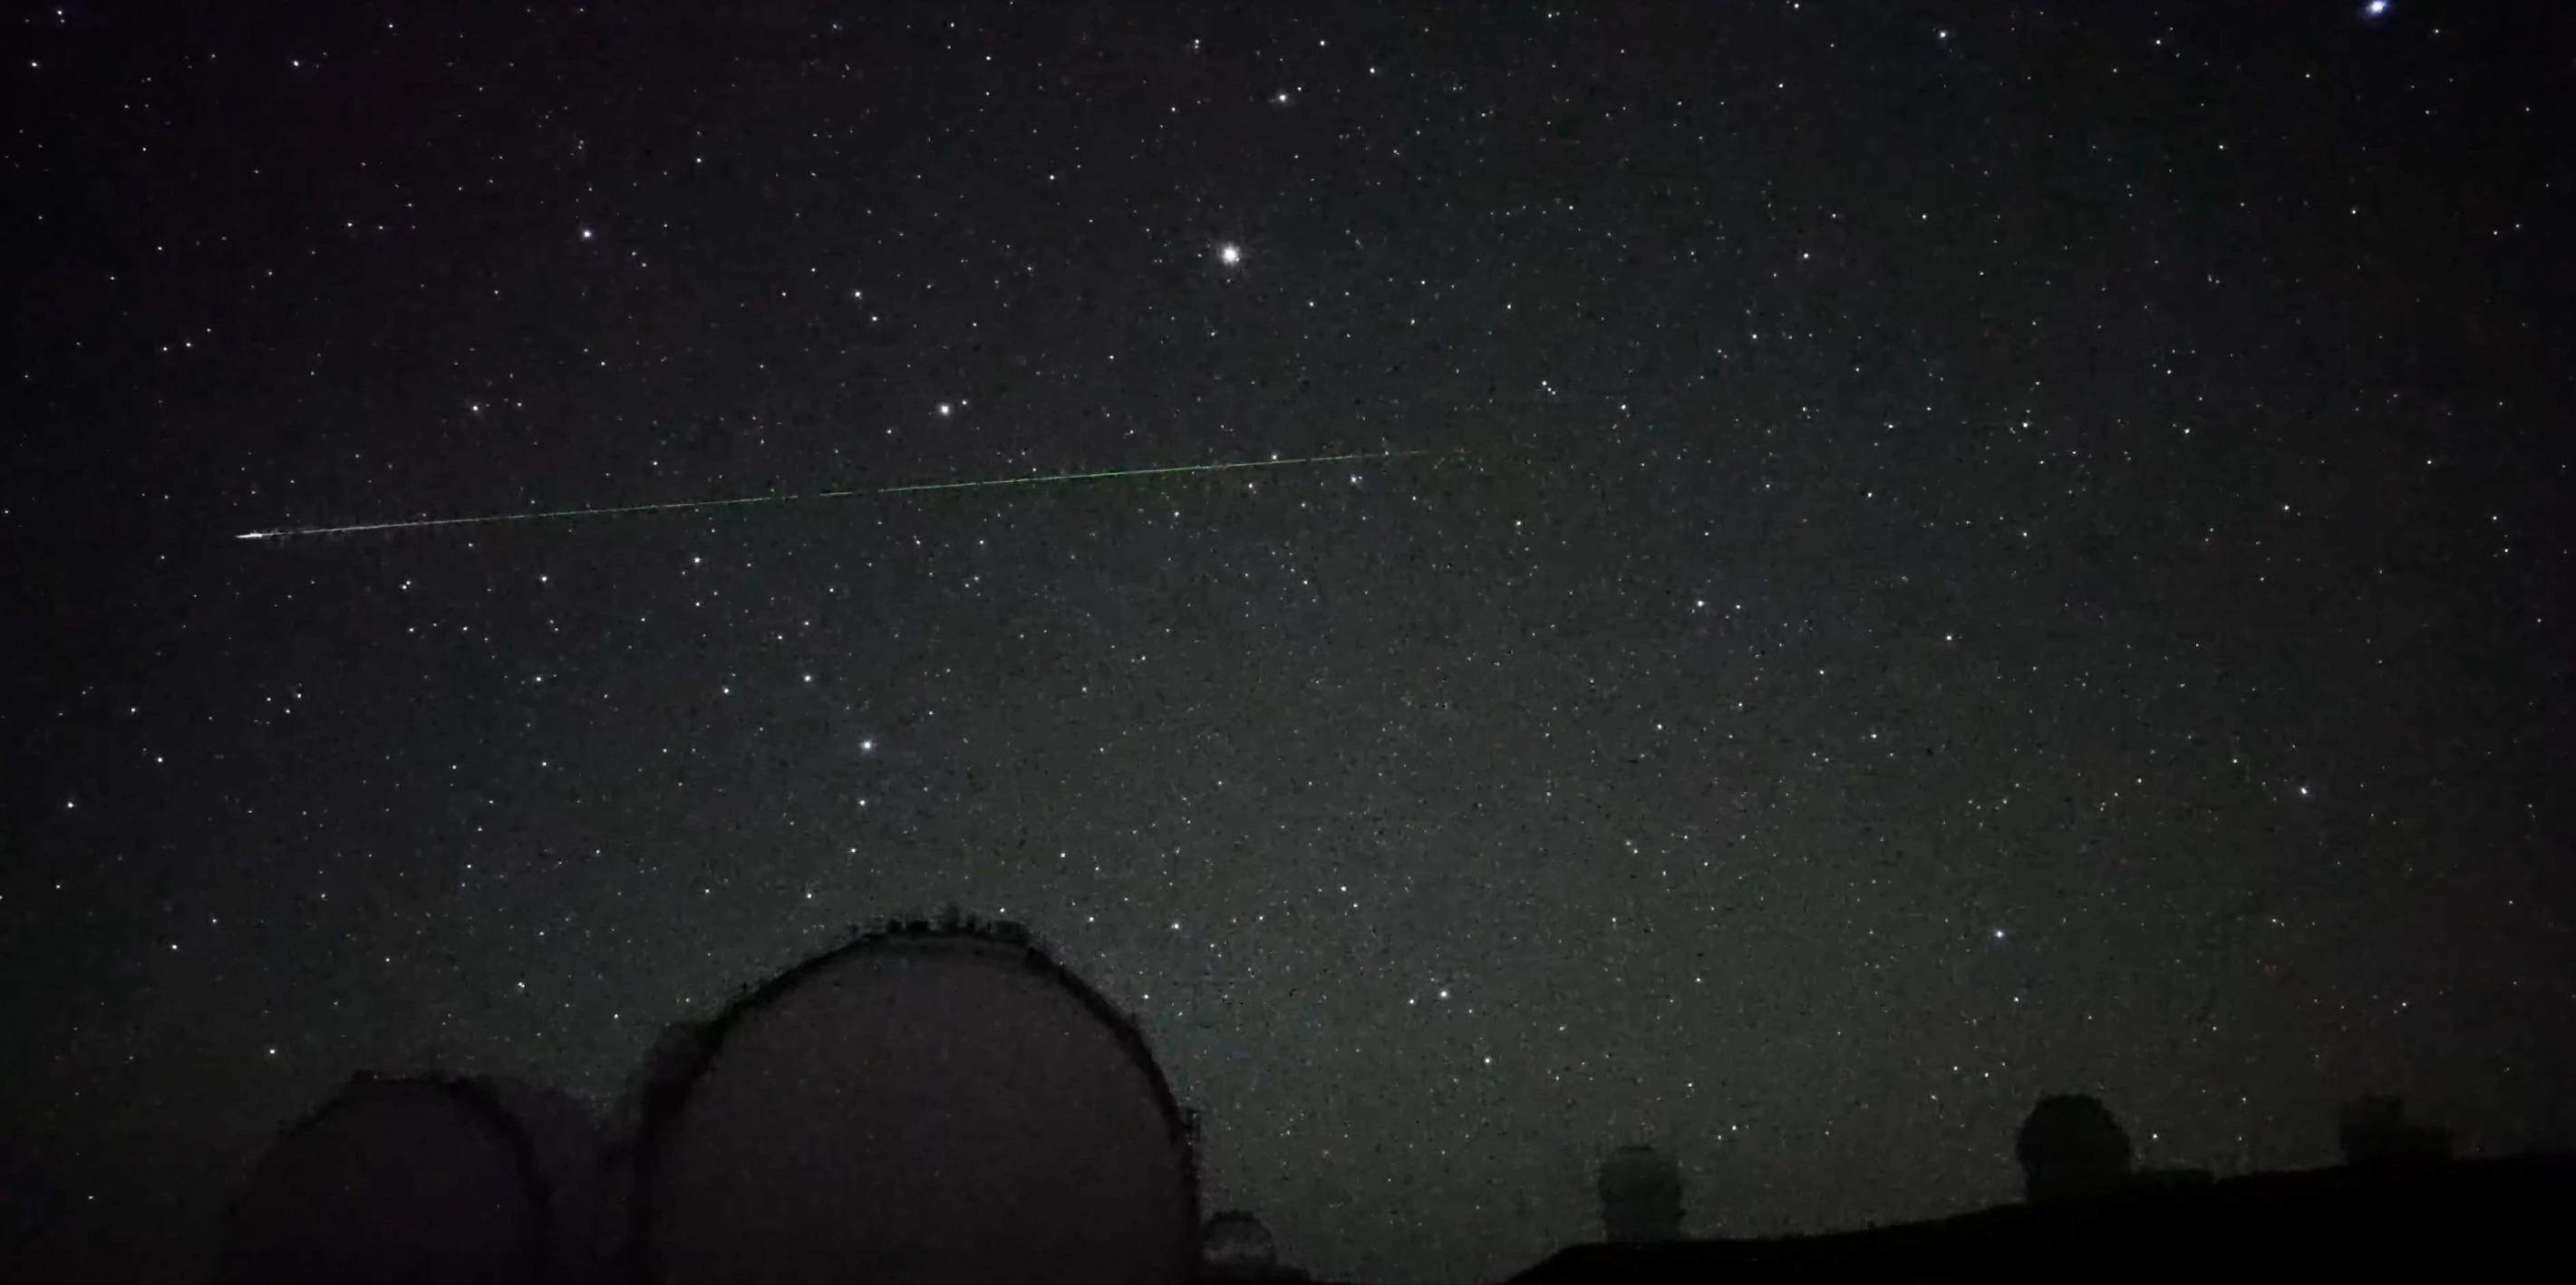meteorite: (220, 483, 982, 567)
